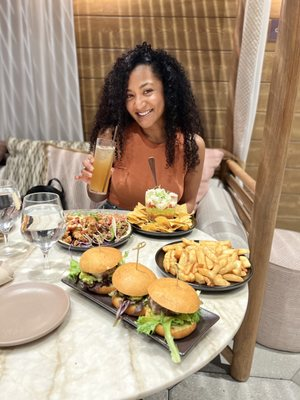pizza: (87, 138, 115, 200)
soup: (136, 277, 203, 339), (74, 246, 124, 294)
